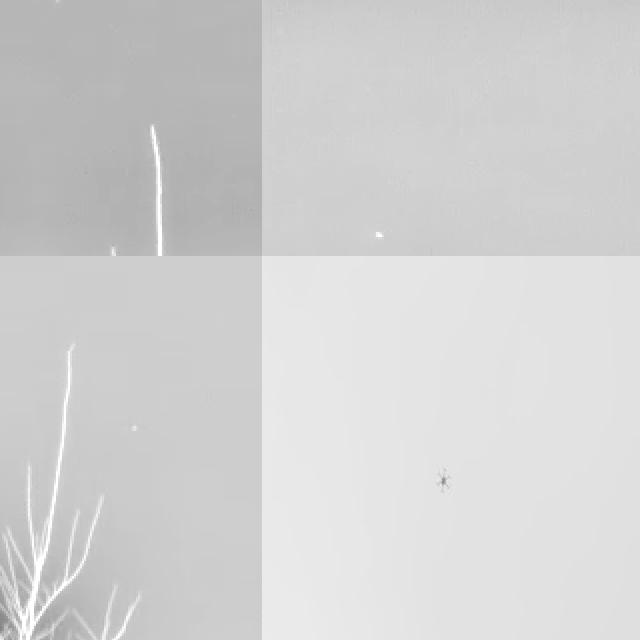0: (124, 418, 148, 448), (50, 0, 74, 16)
1: (367, 220, 401, 256)
drone: (434, 462, 455, 496)
